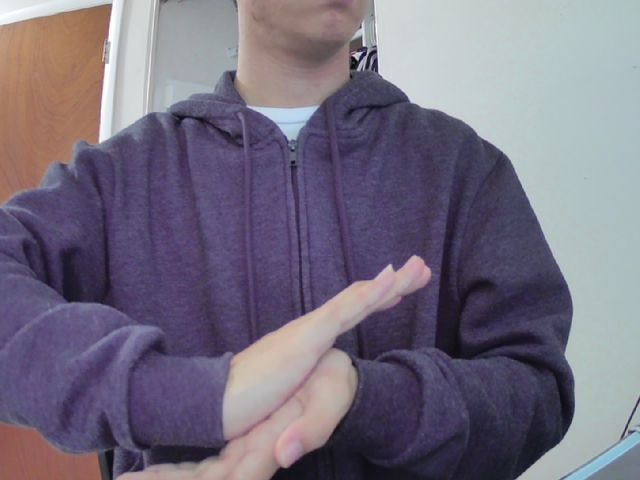cheese: (110, 257, 435, 480)
